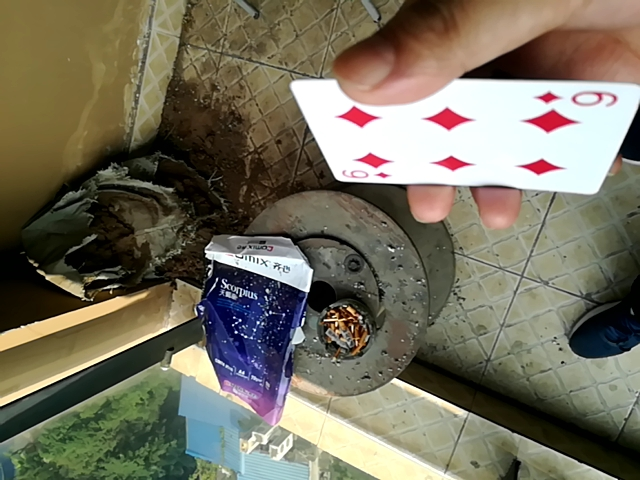fk 6: (280, 72, 635, 198)
